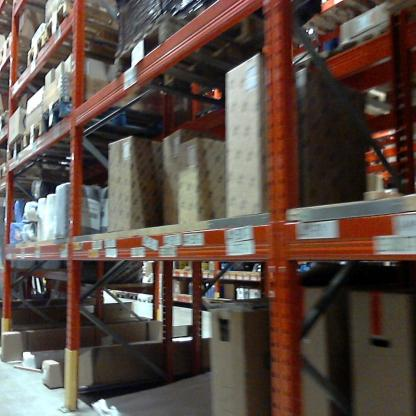pallet: (108, 17, 293, 113), (41, 94, 170, 155), (19, 117, 161, 160), (21, 28, 133, 76), (4, 138, 126, 180), (2, 158, 112, 198), (46, 5, 142, 49), (1, 30, 46, 77), (1, 108, 17, 139), (125, 290, 140, 301), (111, 290, 129, 299), (136, 292, 150, 303)
